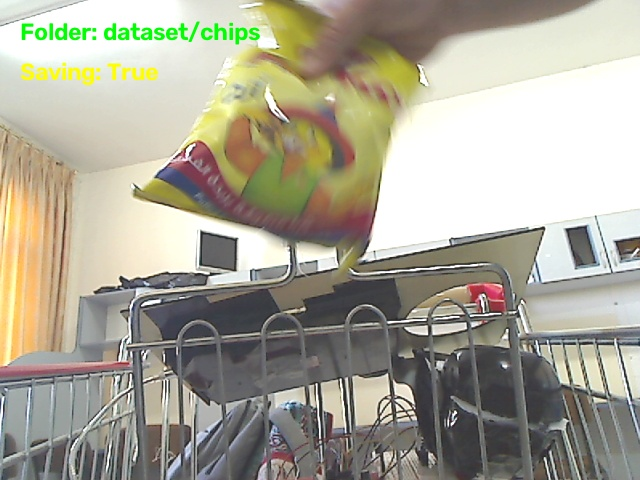chips: (134, 0, 419, 267)
